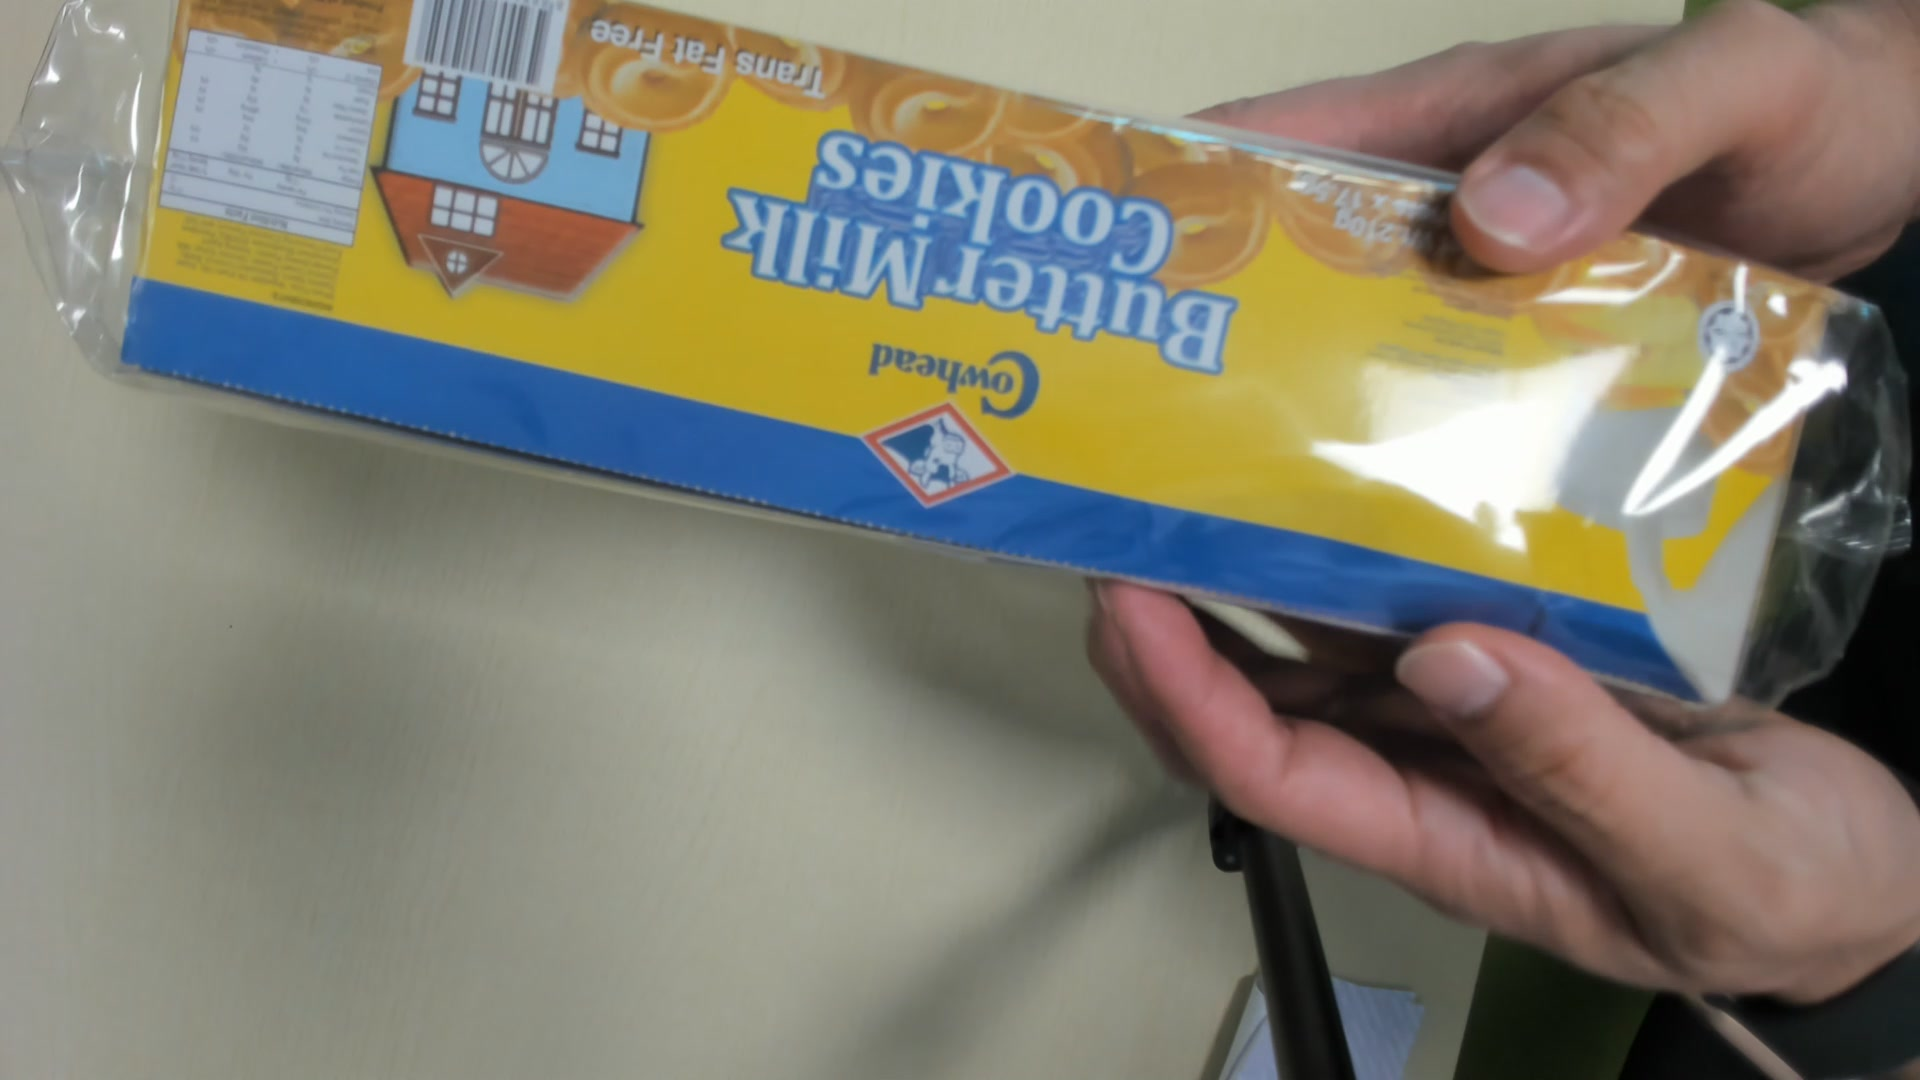SweetsChocolatesOthers_200-299g_Halal_Nonhealthy: (76, 9, 1837, 700)
